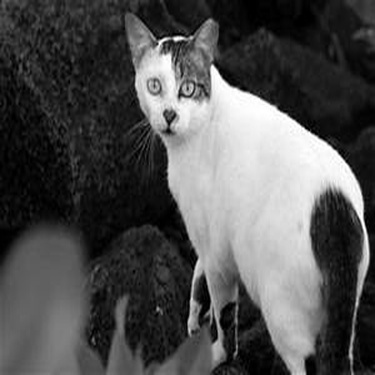cat: (119, 6, 371, 373)
